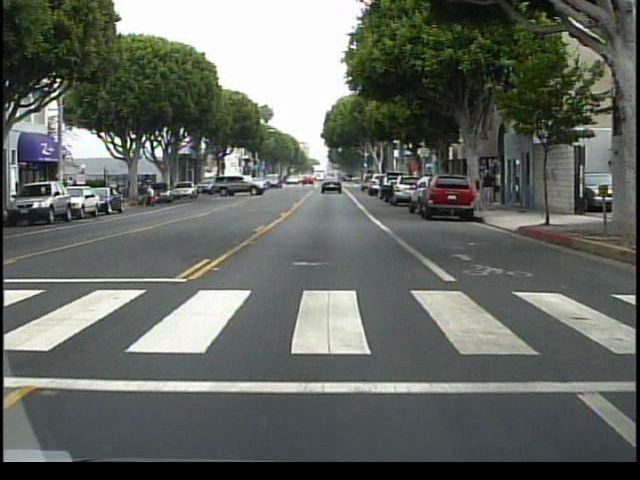person: (476, 170, 497, 210), (140, 177, 158, 209)
